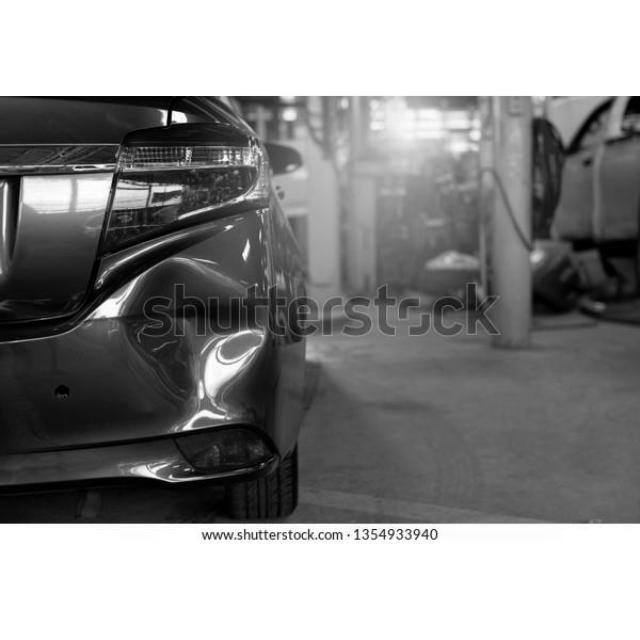rear-bumper-dent: (1, 252, 292, 478)
